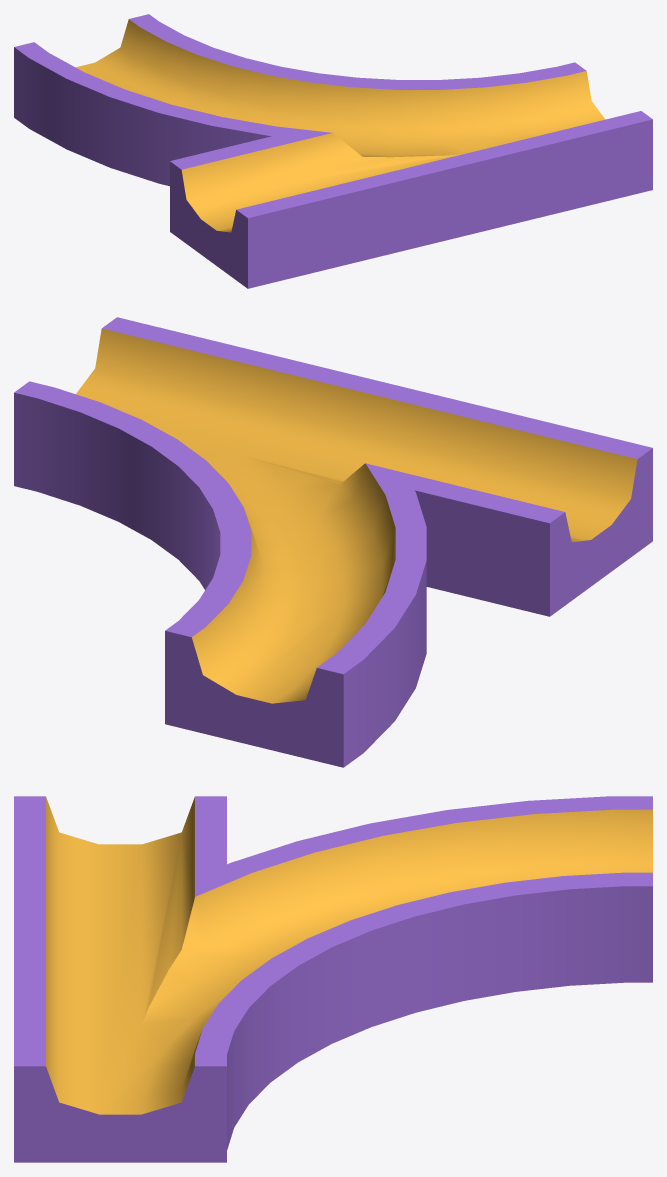
Rendered from split-large-right-col.glb.
The picture shows the model from 3 angles, top to bottom: view 1: azimuth 30°, elevation 25°; view 2: azimuth 150°, elevation 25°; view 3: azimuth 270°, elevation 25°; orthographic projection. The views are drawn at different scales.
Visible parts, largest first — view 1: split-large-right-col; view 2: split-large-right-col; view 3: split-large-right-col.
Boxes of the visible parts, <box> form: split-large-right-col: <box>14,14,652,288</box>; split-large-right-col: <box>14,317,652,767</box>; split-large-right-col: <box>14,796,652,1162</box>.
Bounding box in the file's own units: 3 × 0.5 × 3.
1 material, 1 textured.
